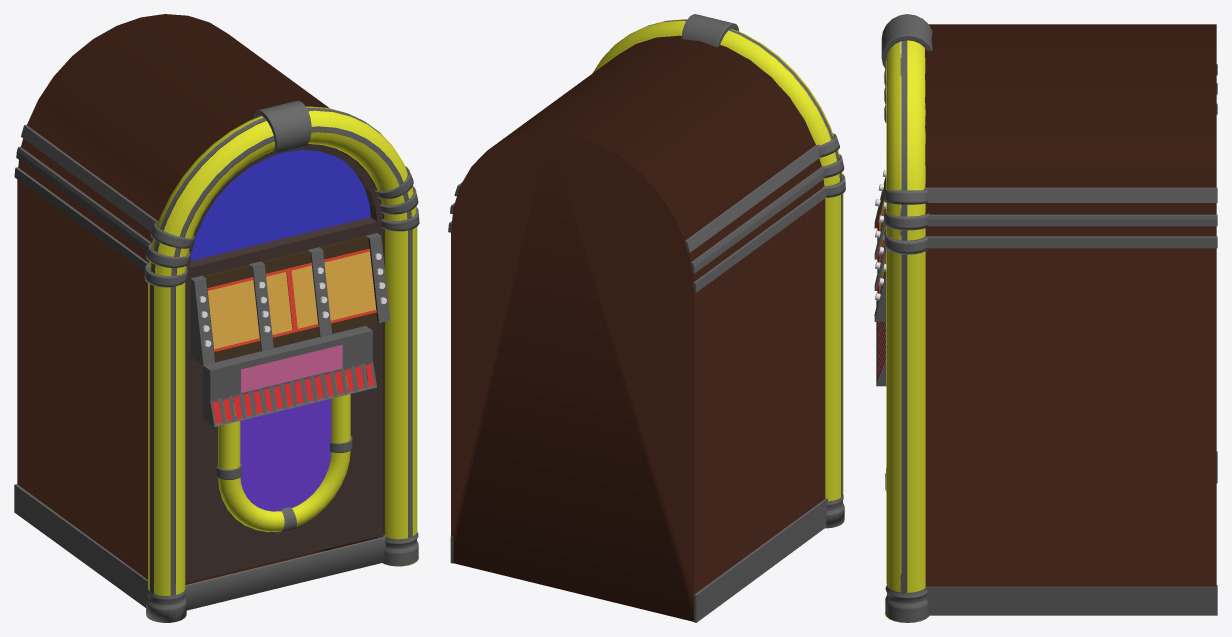
File: GRAMOLA.fbx
The picture shows the model from 3 angles, left to right: view 1: azimuth 30°, elevation 25°; view 2: azimuth 150°, elevation 25°; view 3: azimuth 270°, elevation 25°; orthographic projection. The views are drawn at different scales.
Visible parts, largest first — view 1: Cylinder, Cube.004, Torus, Cylinder.002, VIDRIO, Plane, Cube.002, Cube, Cube.005, Cube.006, Cube.001, Cylinder.015; view 2: Cylinder, Cube.004, Torus; view 3: Cylinder, Cube.004, Torus.
Boxes of the visible parts, x1,y1,x2,y2 form: Cylinder: [17, 14, 384, 584]; Cube.004: [14, 100, 419, 622]; Torus: [148, 106, 418, 595]; Cylinder.002: [185, 144, 383, 582]; VIDRIO: [190, 150, 370, 260]; Plane: [232, 373, 331, 511]; Cube.002: [207, 251, 376, 348]; Cube: [202, 236, 378, 361]; Cube.005: [241, 344, 342, 392]; Cube.006: [212, 364, 374, 423]; Cube.001: [207, 248, 376, 351]; Cylinder.015: [199, 253, 386, 346]; Cylinder: [451, 35, 825, 621]; Cube.004: [448, 14, 845, 622]; Torus: [592, 19, 843, 501]; Cylinder: [925, 24, 1216, 586]; Cube.004: [874, 14, 1217, 622]; Torus: [884, 14, 925, 622].
Bounding box in the file's own units: 218 × 371 × 219.
